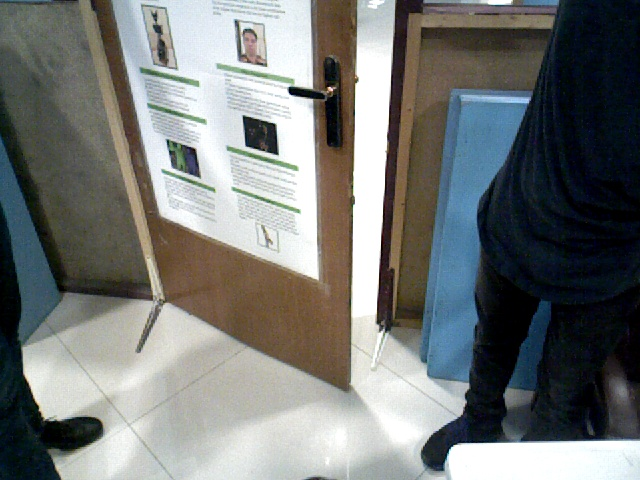door_handle: (288, 54, 348, 154)
